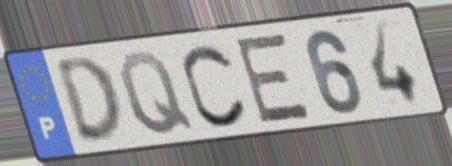4: (373, 18, 425, 108)
6: (303, 26, 364, 117)
C: (180, 41, 251, 130)
D: (51, 53, 126, 147)
E: (233, 30, 315, 127)
Q: (115, 48, 198, 138)
